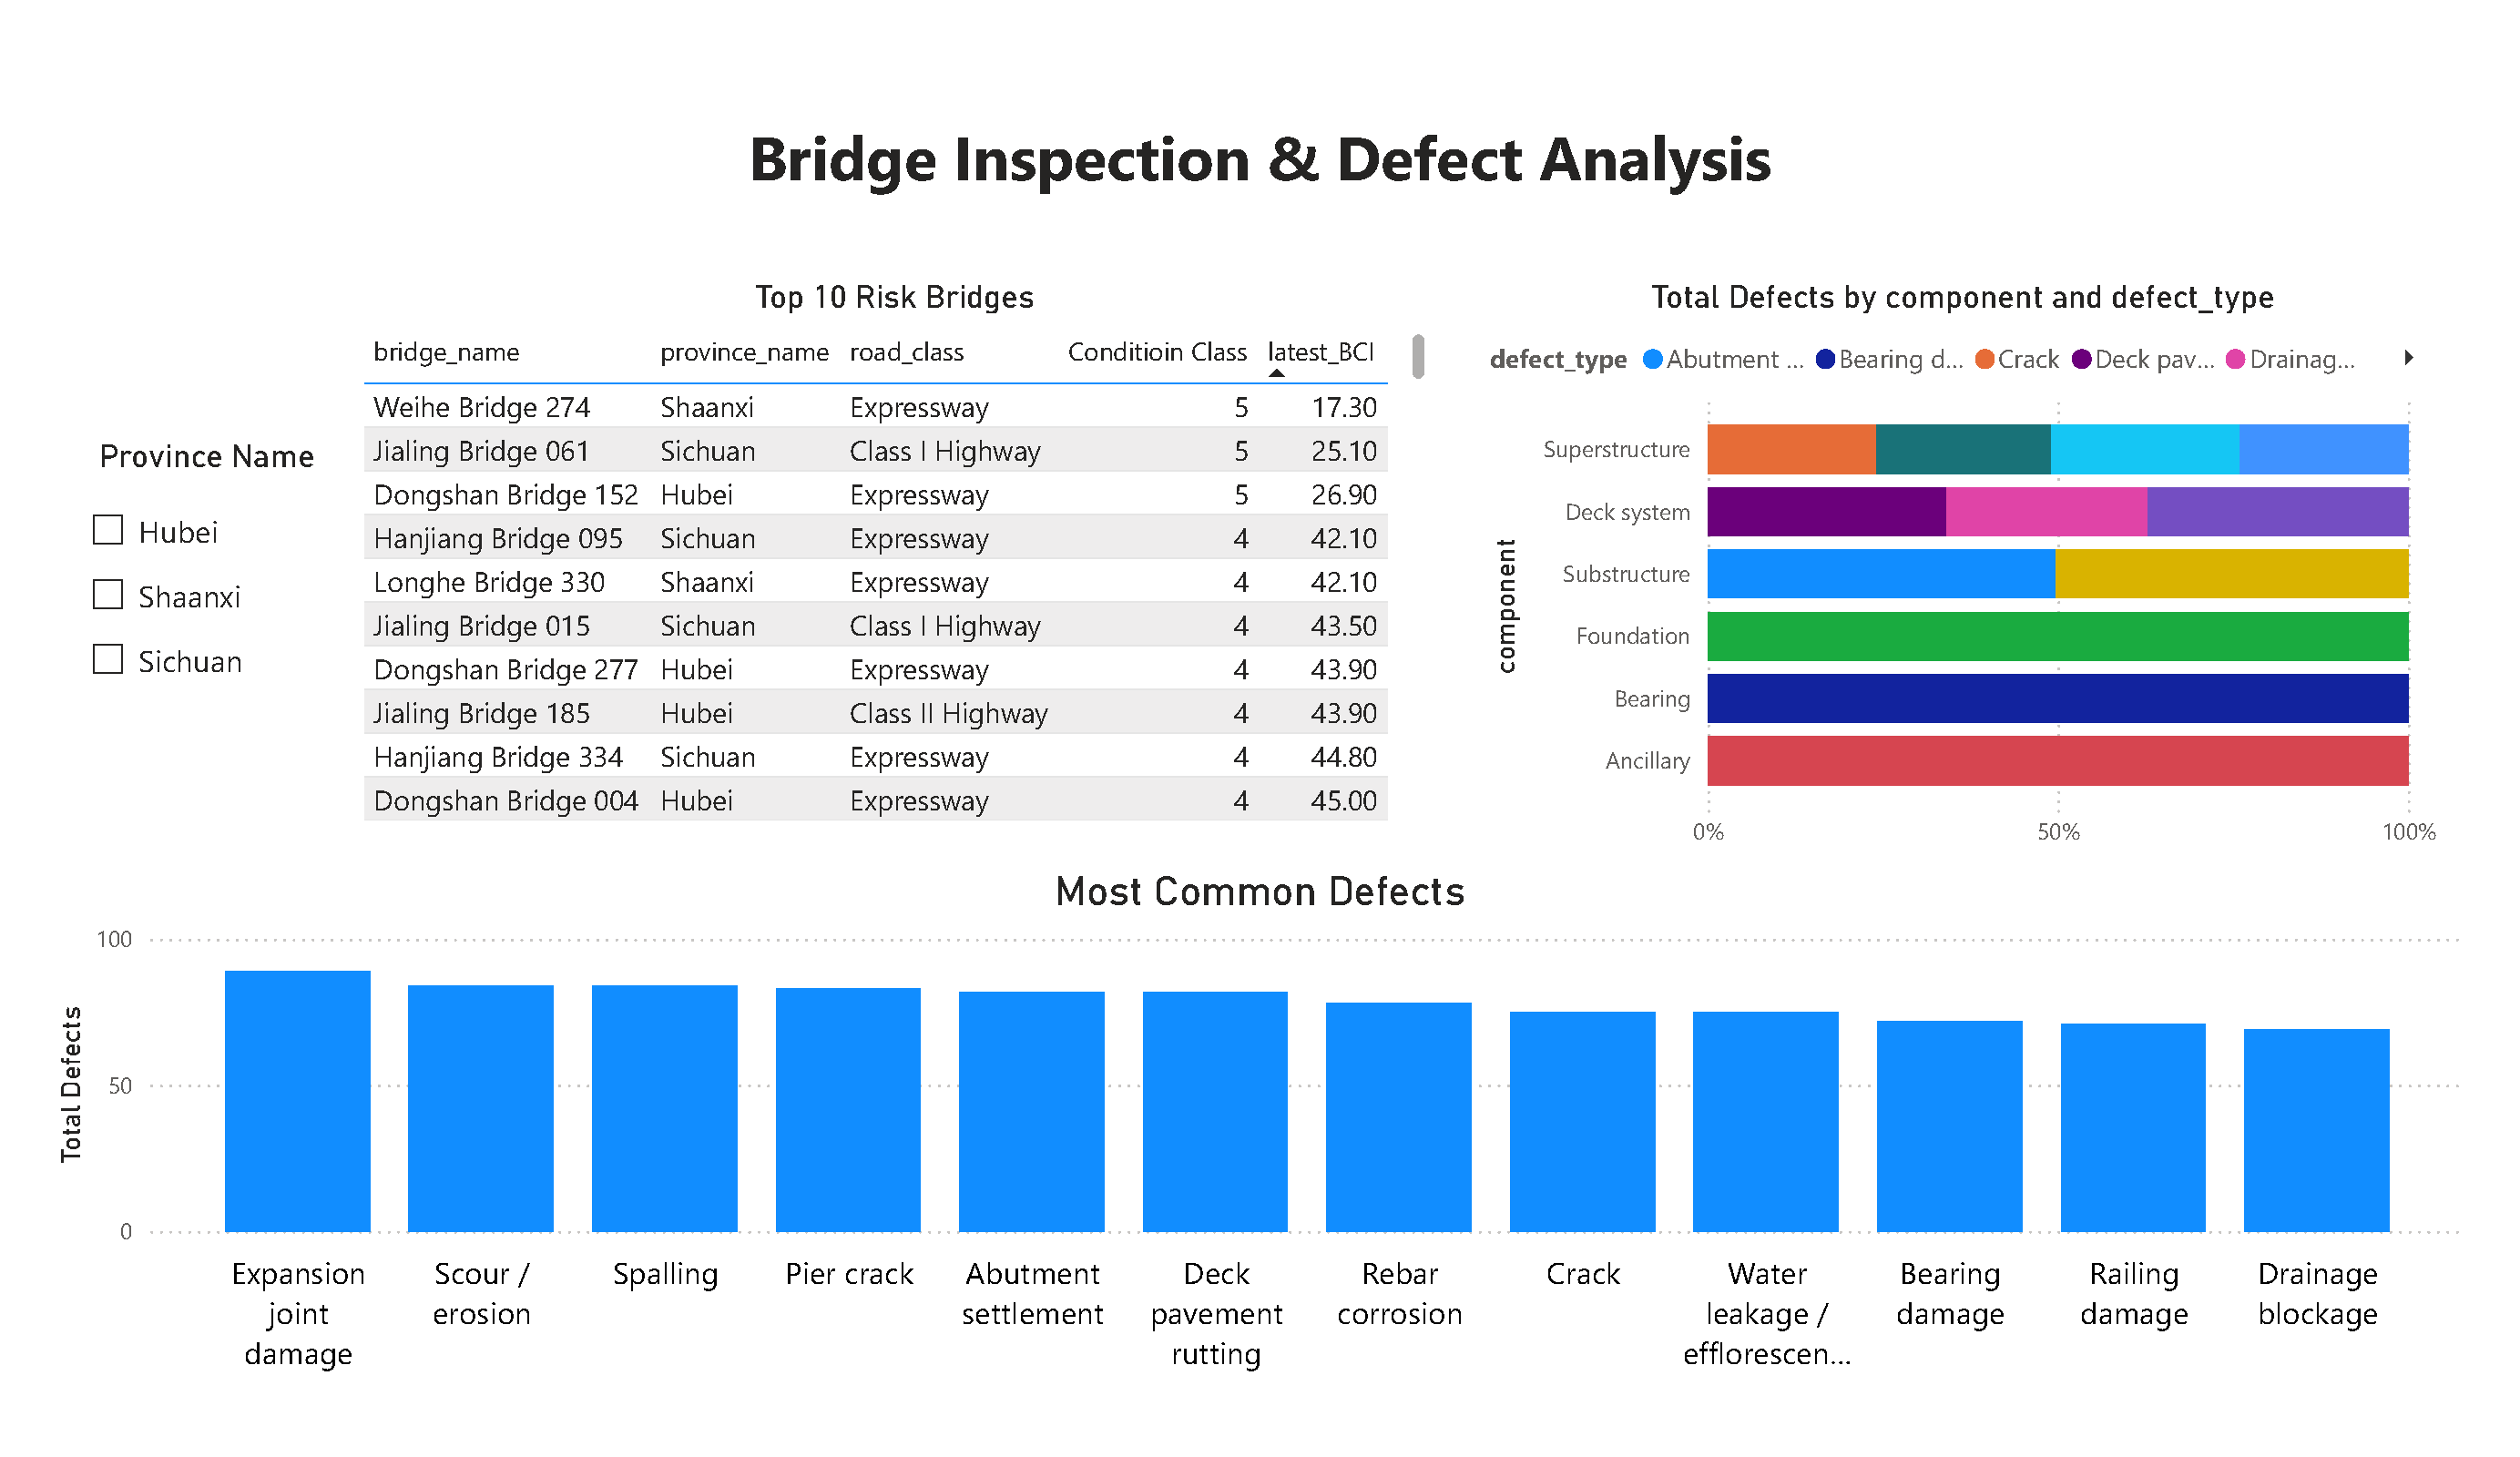

The page's visual inventory and layout, read from the dashboard file:
{"tool":"powerbi","page":{"name":"Page 2","canvas":[1280,720],"ordinal":1},"visuals":[{"type":"columnChart","title":"Most Common Defects","fields":{"Category":["fact_defect.defect_type"],"Y":["fact_defect.Total Defects"]},"box":[0,432.9,1280,287.3],"z":0},{"type":"textbox","box":[0,31.1,1280,56.6],"z":1000},{"type":"listSlicer","title":"Province Name","fields":{"Values":["dim_province.province_name"]},"box":[18.7,206.5,131.9,141.8],"z":2000},{"type":"hundredPercentStackedBarChart","fields":{"Category":["fact_defect.component"],"Y":["fact_defect.Total Defects"],"Series":["fact_defect.defect_type"]},"box":[756.3,121.9,508.8,311],"z":3000},{"type":"tableEx","title":"Top 10 Risk Bridges","fields":{"Values":["dim_bridge.bridge_name","dim_province.province_name","dim_bridge.road_class","dim_bridge.Conditioin Class","dim_bridge.latest_BCI"]},"box":[161.7,121.9,571,291.1],"z":3001}]}

Visuals, with their boxes on the page's 1280x720 design canvas (x1, y1, x2, y2). These are canvas units, not pixel positions in the 2520x1457 screenshot, which may show the page scaled, cropped or inside an application window:
"Most Common Defects" columnChart: (0, 433, 1280, 720)
textbox: (0, 31, 1280, 88)
"Province Name" listSlicer: (19, 206, 151, 348)
hundredPercentStackedBarChart - fact_defect.component x fact_defect.Total Defects: (756, 122, 1265, 433)
"Top 10 Risk Bridges" tableEx: (162, 122, 733, 413)
